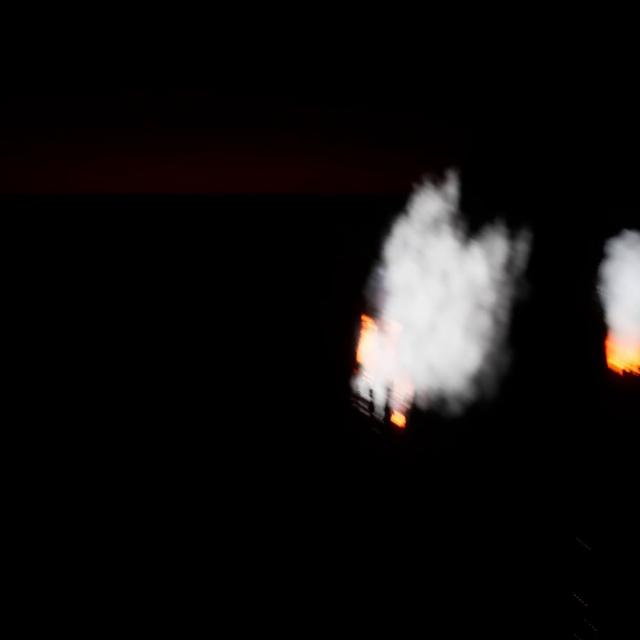fire: (356, 320, 411, 438)
smoke: (349, 159, 532, 433), (596, 219, 639, 380)
